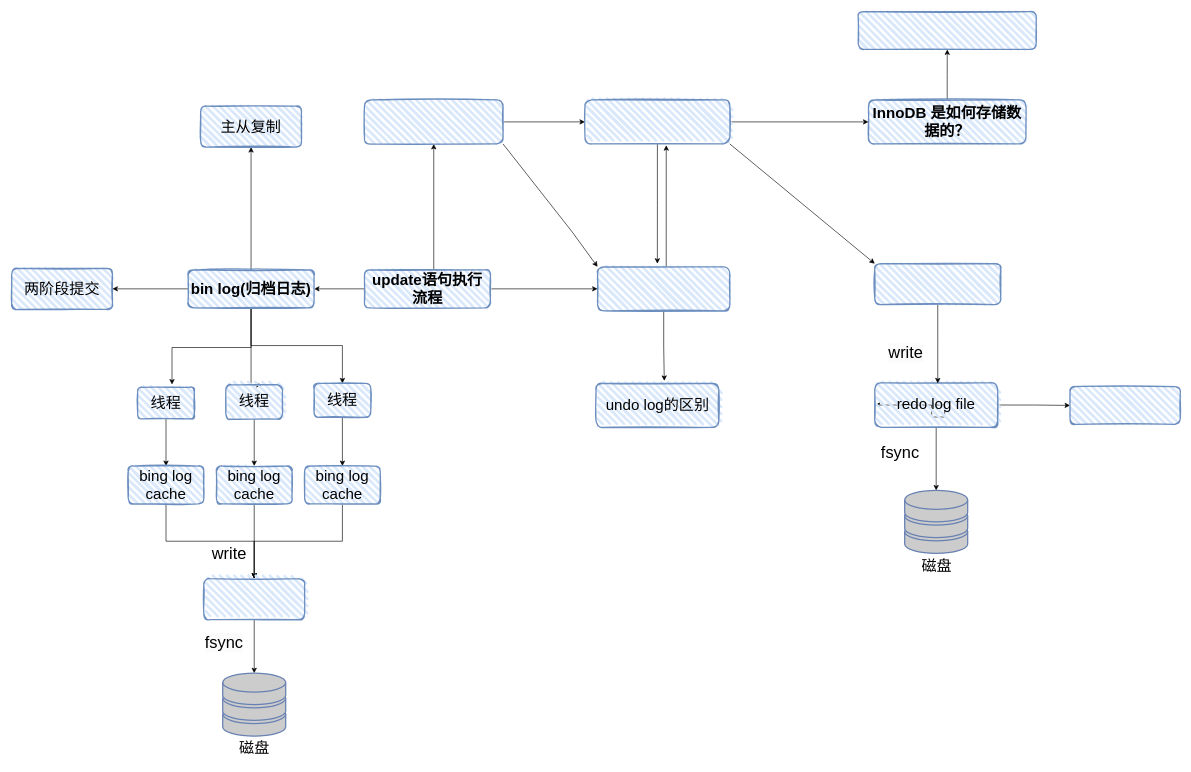
This 1191x772 diagram has some shape labels left out. The shapes that lost their labels are listed below. From the top down, each one's box as (x1, y1, x2, y2) in pixels, then its label:
(857, 11, 1037, 50): B+ 树是如何进行查询的？
(364, 99, 503, 144): undo log(回滚日志)
(584, 99, 730, 144): Buffer pool(缓冲池)
(597, 266, 730, 311): redo log(重做日志)
(874, 263, 1001, 305): redo log buffer
(1069, 386, 1181, 425): 写满如何处理
(203, 578, 305, 620): binlog cache
